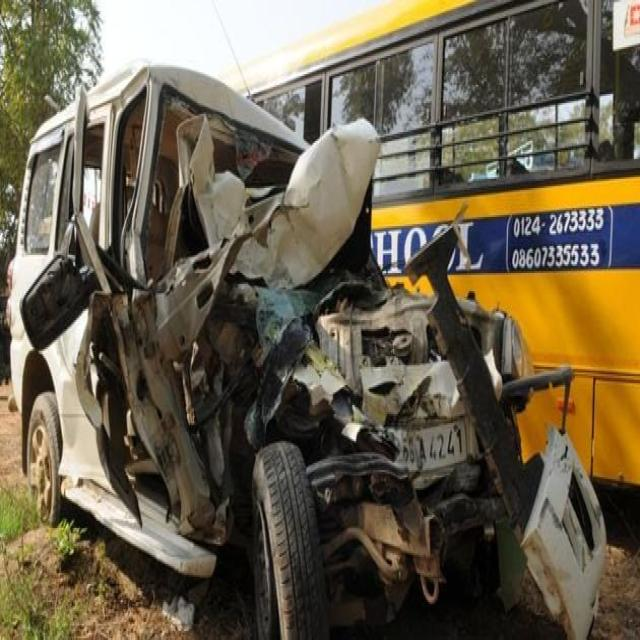accident: (7, 61, 614, 640)
bus: (226, 0, 640, 488)
